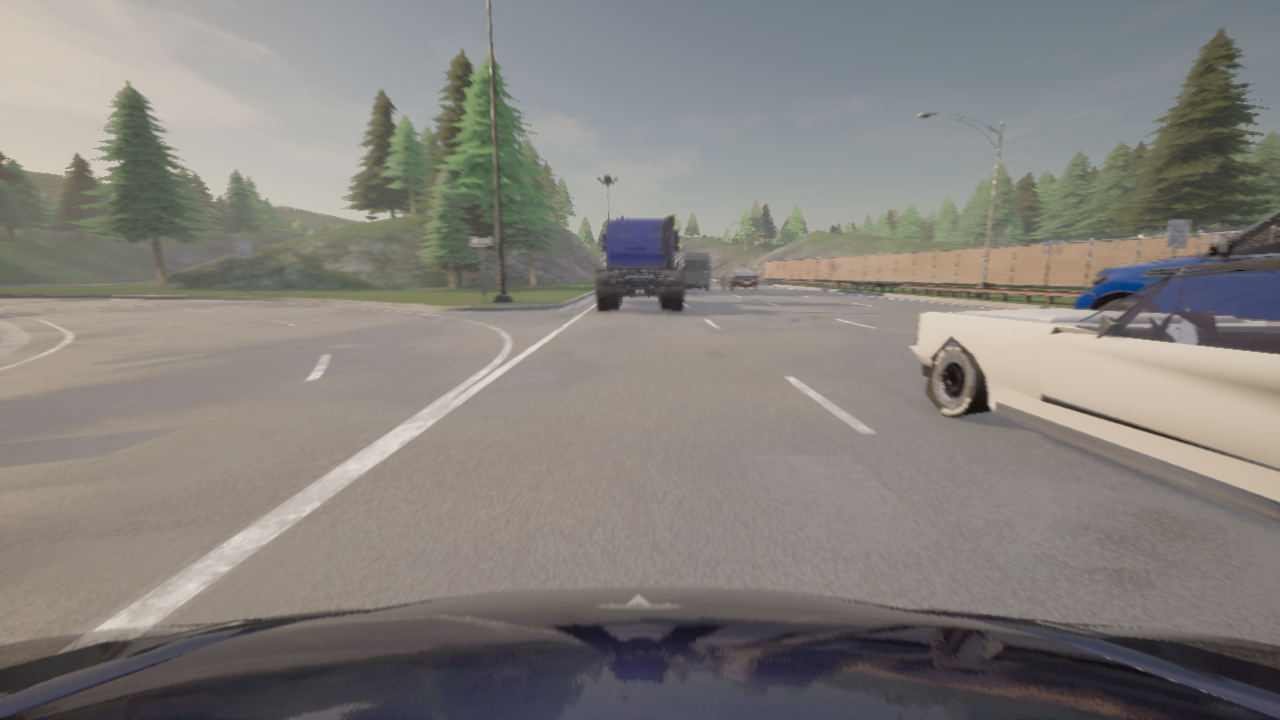cyclist: (0, 588, 1279, 719), (909, 257, 1279, 524), (1074, 210, 1279, 309), (596, 216, 684, 311), (674, 252, 710, 292), (722, 269, 758, 291), (716, 272, 727, 283)
